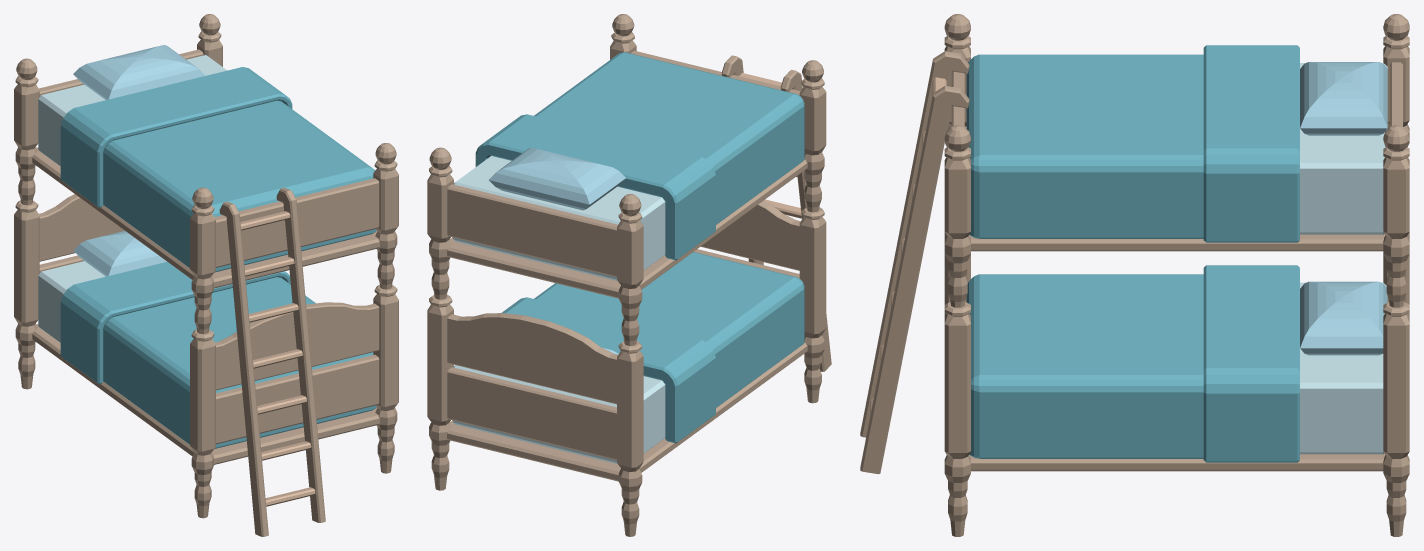
File: Prop_Bedroom_Bed_Bunk.glb
3 renders of one model, left to right at view 1: azimuth 30°, elevation 25°; view 2: azimuth 150°, elevation 25°; view 3: azimuth 270°, elevation 25°, orthographic. The views are drawn at different scales.
Parts seen in each view (by area): view 1: Prop_Bedroom_Bed_Bunk; view 2: Prop_Bedroom_Bed_Bunk; view 3: Prop_Bedroom_Bed_Bunk.
Boxes of the visible parts, x1,y1,x2,y2 form: Prop_Bedroom_Bed_Bunk: [14, 14, 398, 536]; Prop_Bedroom_Bed_Bunk: [427, 14, 831, 536]; Prop_Bedroom_Bed_Bunk: [860, 14, 1409, 536].
Size of the model in its own units: 1.41 by 2.2 by 2.68.
